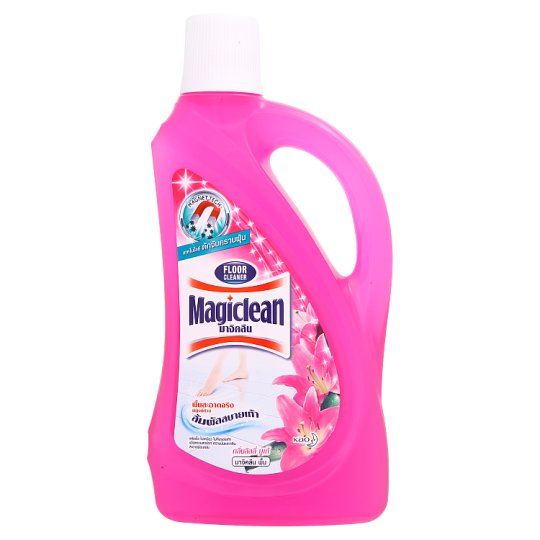Cleaning_solution: (141, 6, 392, 530)
